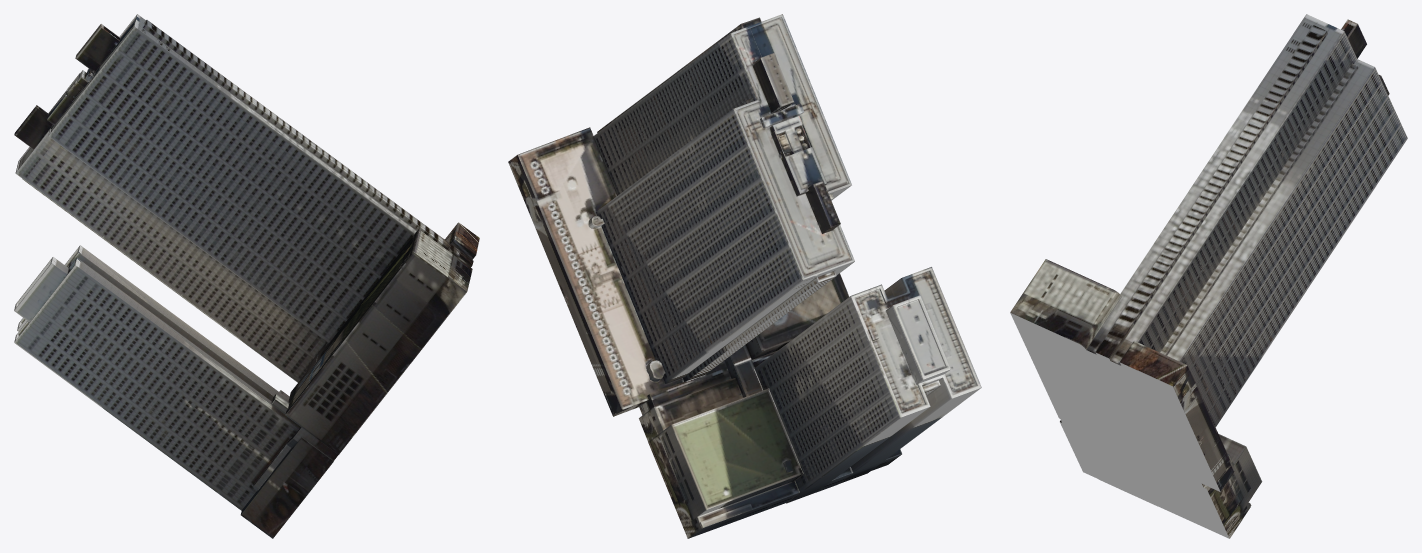
File: 9886_bldg_Building.glb
The picture shows the model from 3 angles, left to right: view 1: azimuth 30°, elevation 25°; view 2: azimuth 150°, elevation 25°; view 3: azimuth 270°, elevation 25°; orthographic projection. The views are drawn at different scales.
Size of the model in its own units: 194 by 206 by 158.
3 materials, 2 textured.
